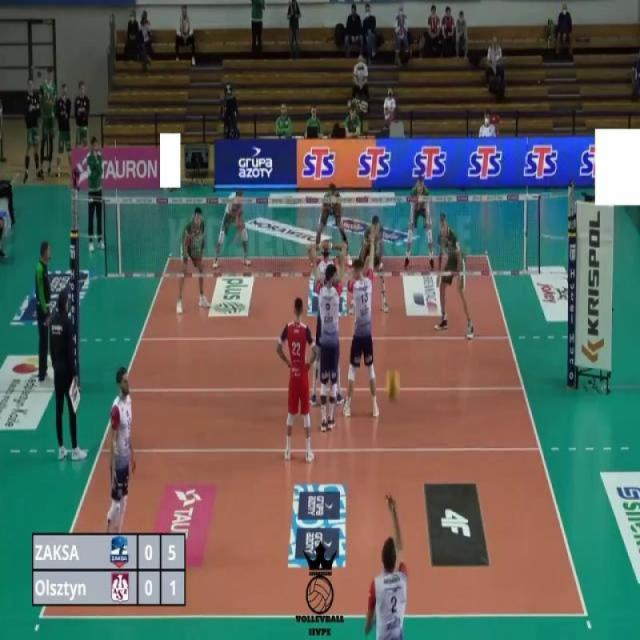volleyball: (385, 368, 401, 405)
